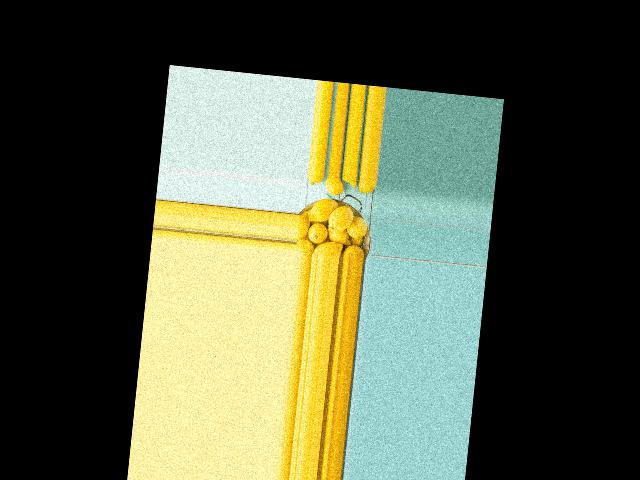lemon: (295, 239, 318, 255)
